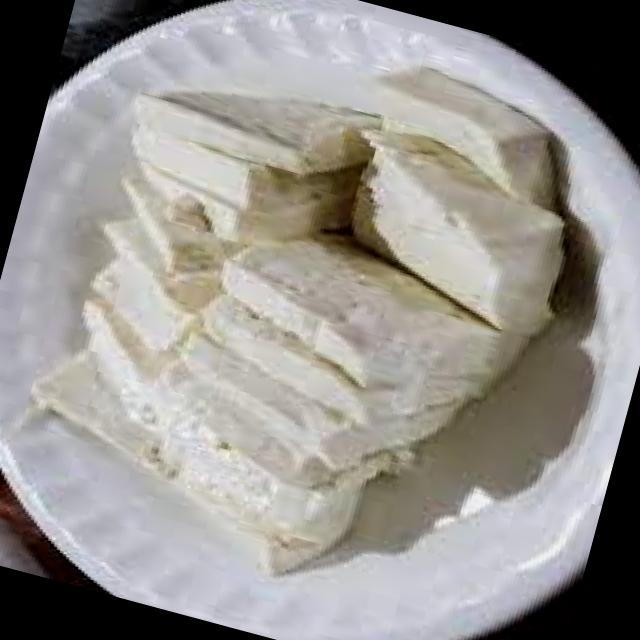tof: (12, 2, 628, 574), (306, 135, 560, 327)
